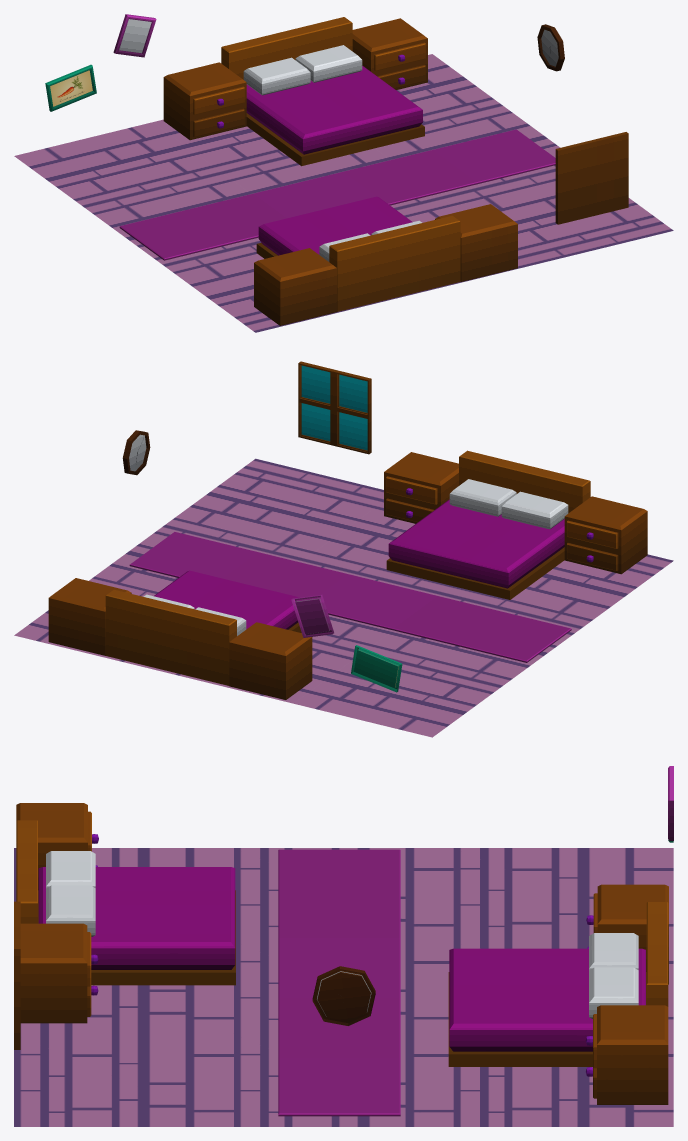
Rendered from s1_Bedroom2_v3.fbx.
The picture shows the model from 3 angles, top to bottom: view 1: azimuth 30°, elevation 25°; view 2: azimuth 150°, elevation 25°; view 3: azimuth 270°, elevation 25°; orthographic projection. The views are drawn at different scales.
Visible parts, largest first — view 1: s1_Bedroom2_v3; view 2: s1_Bedroom2_v3; view 3: s1_Bedroom2_v3.
Part boxes in pixels (left/top/right/bottom): s1_Bedroom2_v3: left=14, top=14, right=673, bottom=332; s1_Bedroom2_v3: left=14, top=361, right=673, bottom=737; s1_Bedroom2_v3: left=14, top=766, right=673, bottom=1126.
Bounding box in the file's own units: 901 × 238 × 900.
